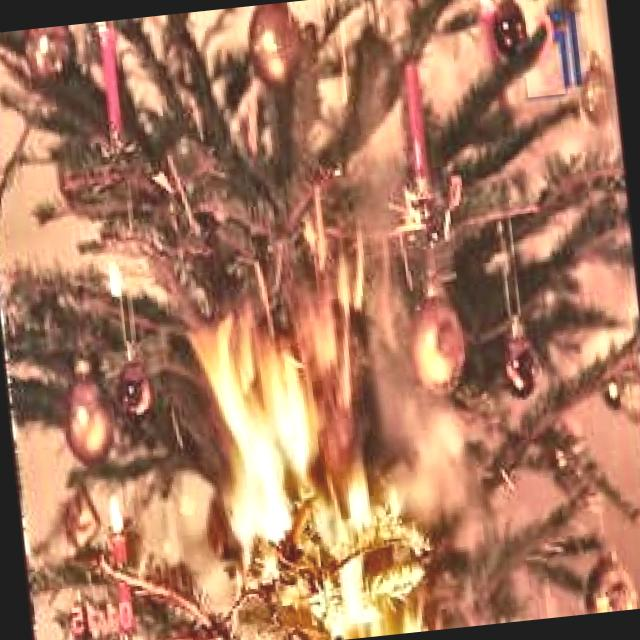fire: (189, 245, 390, 562)
